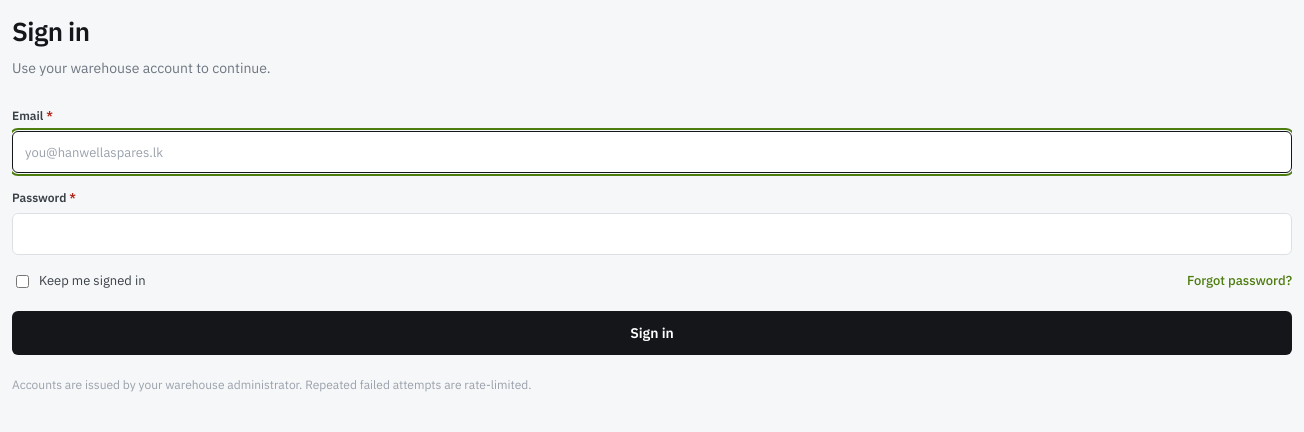
Test: LoginPage › shows the server-rejected-credentials message inline and does not navigate
Type "sadeeka@hanwellaspares.lk" into the field labelled "Email".
click(652, 152); type("sadeeka@hanwellaspares.lk")  # box 12,131 -> 1292,173
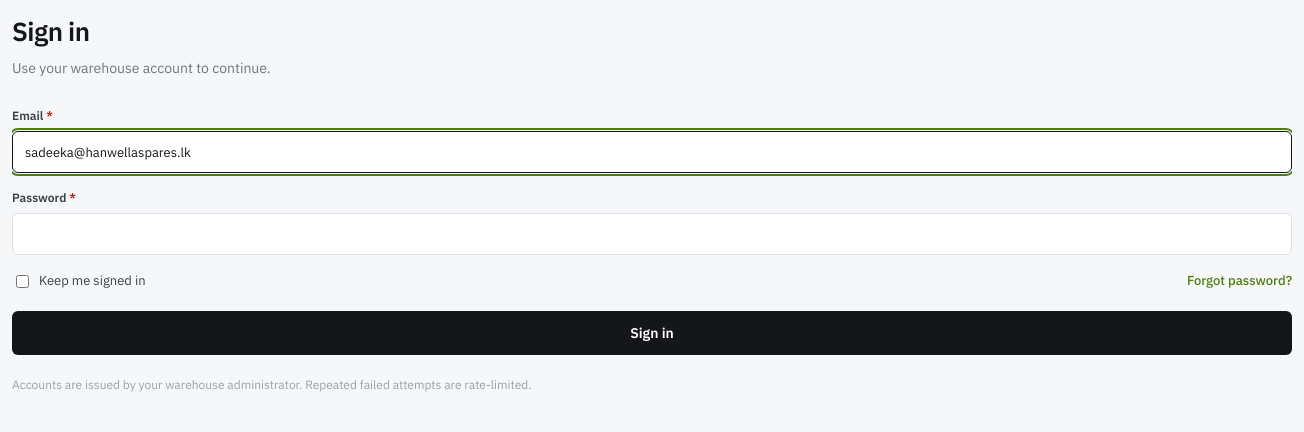
Type "wrong-password" into the password field labelled "Password".
click(652, 234); type("wrong-password")  # box 12,213 -> 1292,255
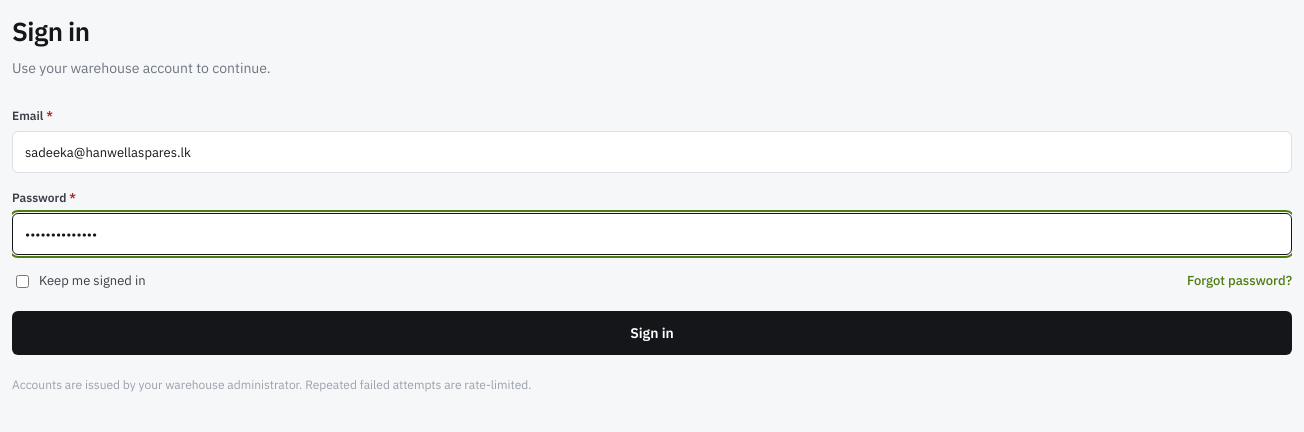
Click the button "Sign in".
click(652, 333)  # box 12,311 -> 1292,355
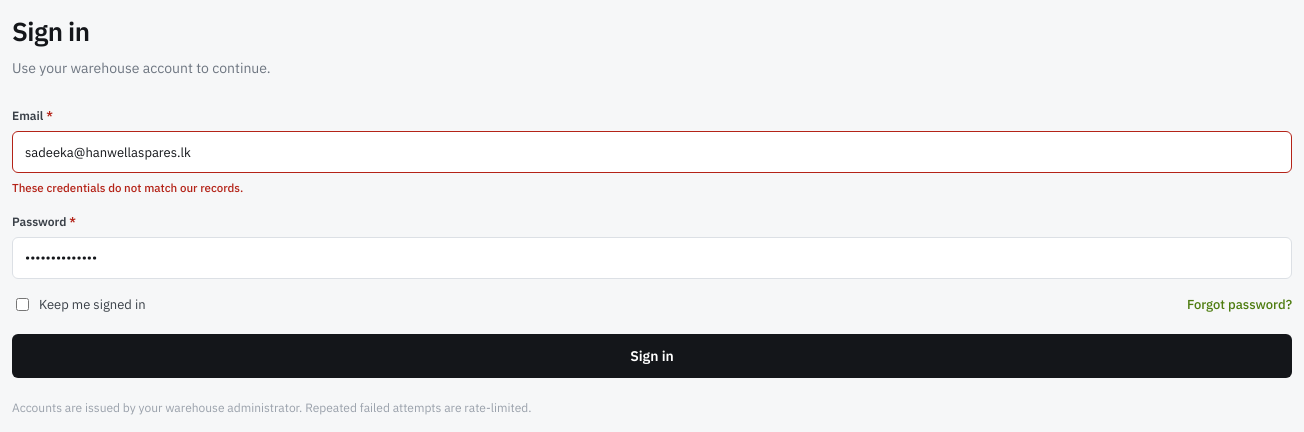
Expected: the text "These credentials do not match our records." is shown, 12,180 -> 243,195
